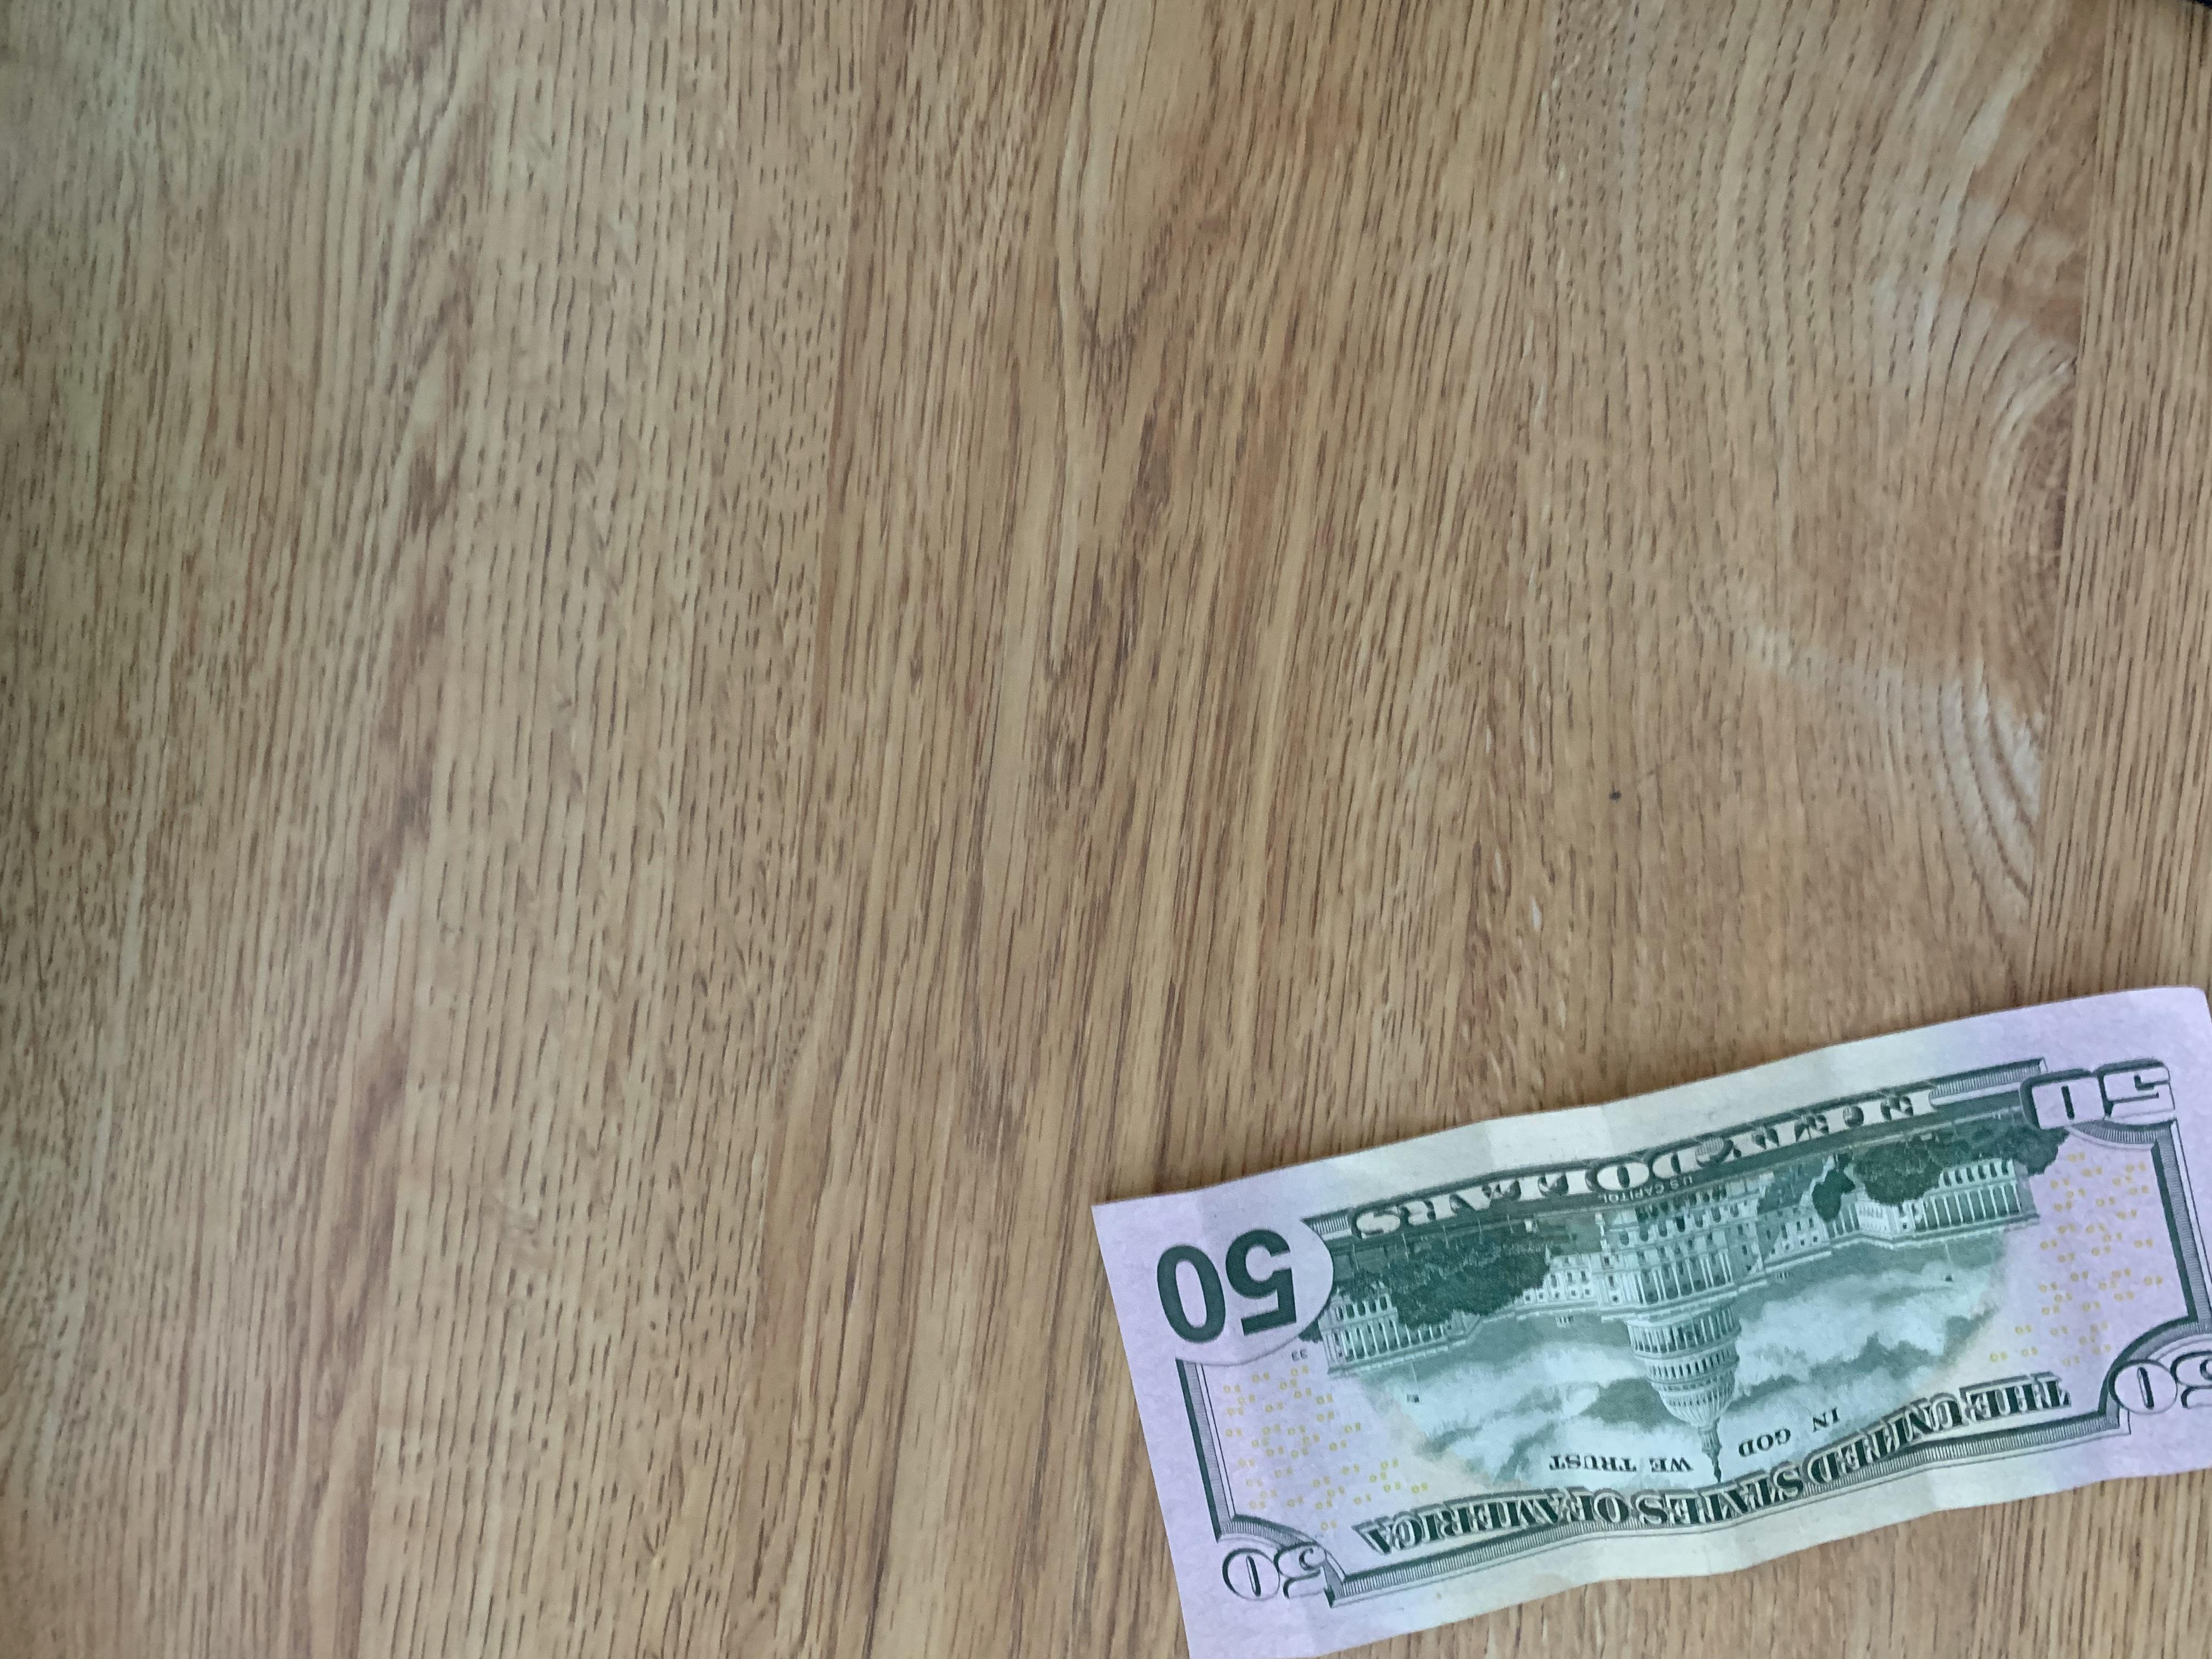FiftyBill: (1090, 983, 2210, 1659)
